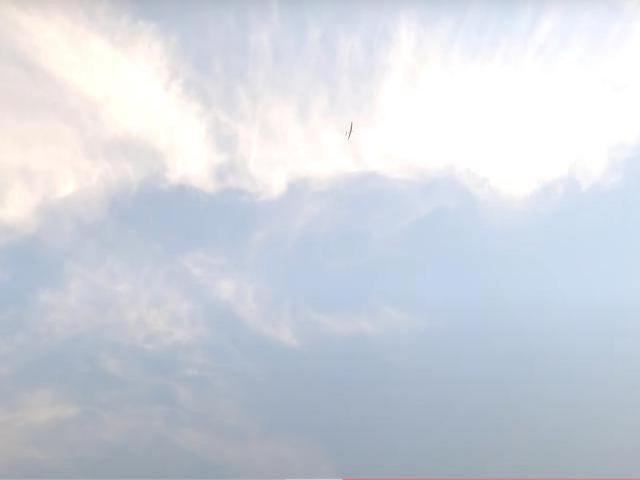iha: (342, 121, 358, 140)
